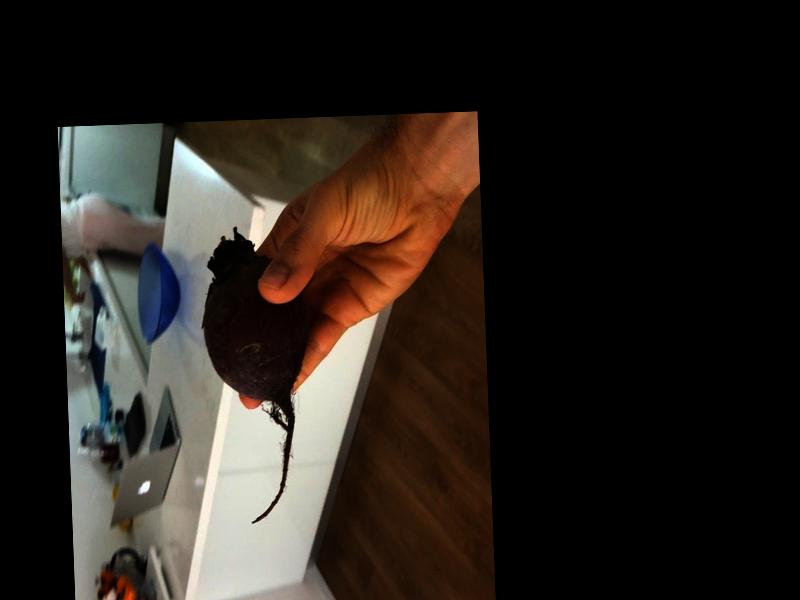Beet: (200, 227, 313, 525)
